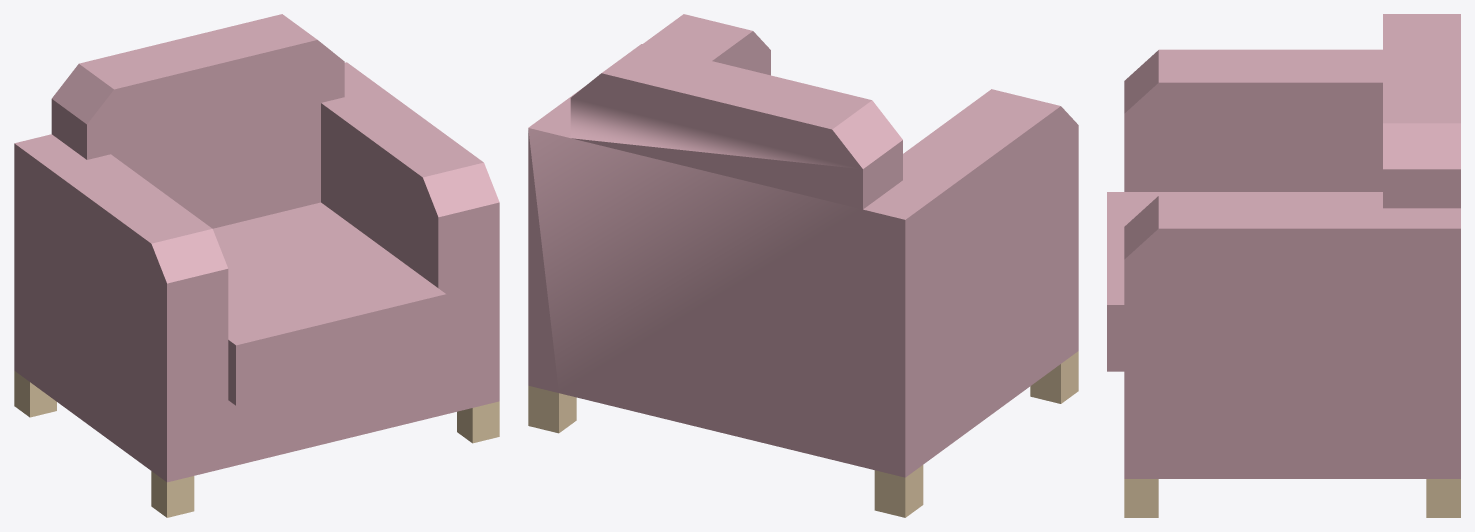
Rendered from loungeChair.glb.
The picture shows the model from 3 angles, left to right: view 1: azimuth 30°, elevation 25°; view 2: azimuth 150°, elevation 25°; view 3: azimuth 270°, elevation 25°; orthographic projection. The views are drawn at different scales.
Visible parts, largest first — view 1: loungeChair(Clone); view 2: loungeChair(Clone); view 3: loungeChair(Clone).
Boxes of the visible parts, <box> form: loungeChair(Clone): <box>14,14,499,517</box>; loungeChair(Clone): <box>528,14,1078,517</box>; loungeChair(Clone): <box>1107,14,1460,517</box>.
Bounding box in the file's own units: 0.49 × 0.46 × 0.41.
